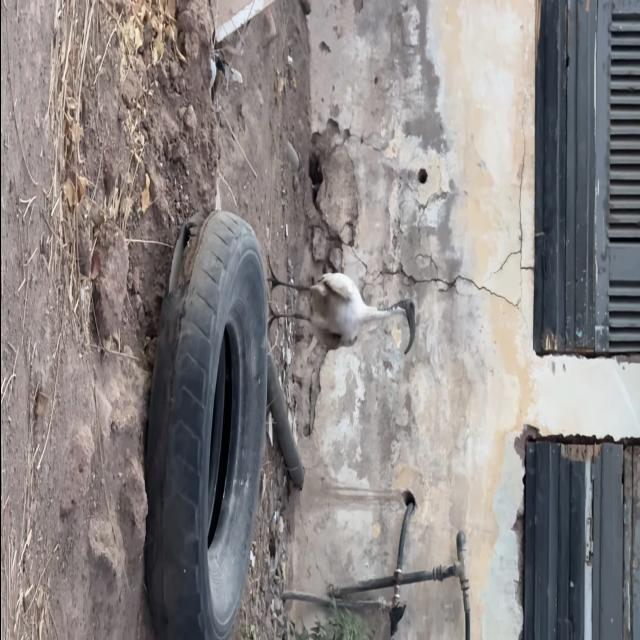Birds-Ibis: (263, 248, 418, 357)
